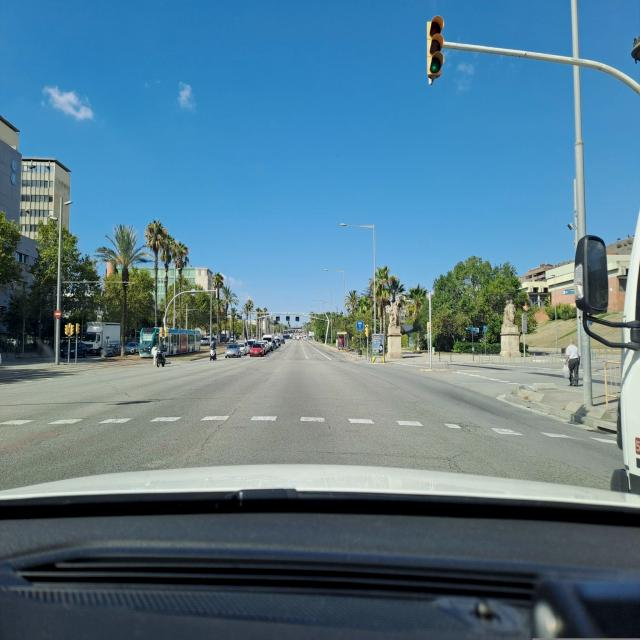bike: (156, 350, 165, 368), (211, 348, 216, 360)
car: (60, 339, 85, 358), (225, 342, 241, 358), (124, 341, 140, 355), (250, 342, 266, 356), (262, 334, 275, 351), (239, 342, 251, 356)
